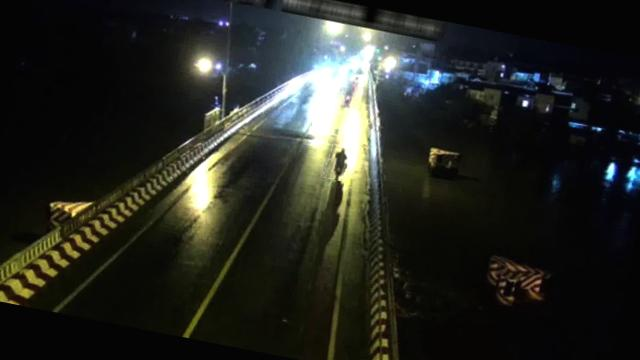Bike: (324, 144, 349, 182), (343, 87, 352, 104)
